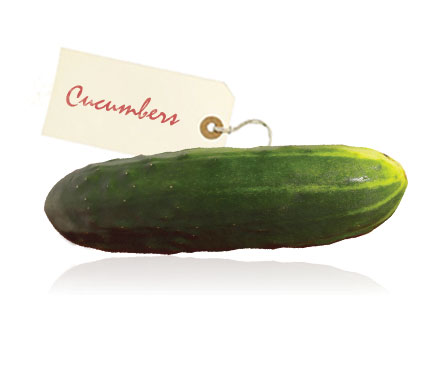cucumber: (42, 143, 410, 255)
